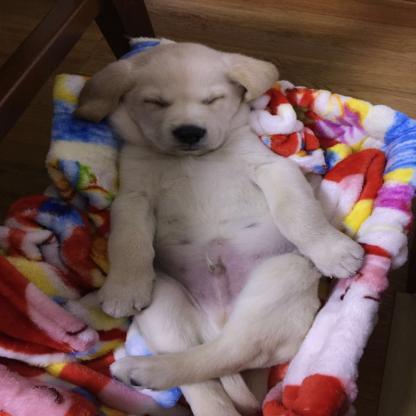dog: (76, 42, 367, 416)
